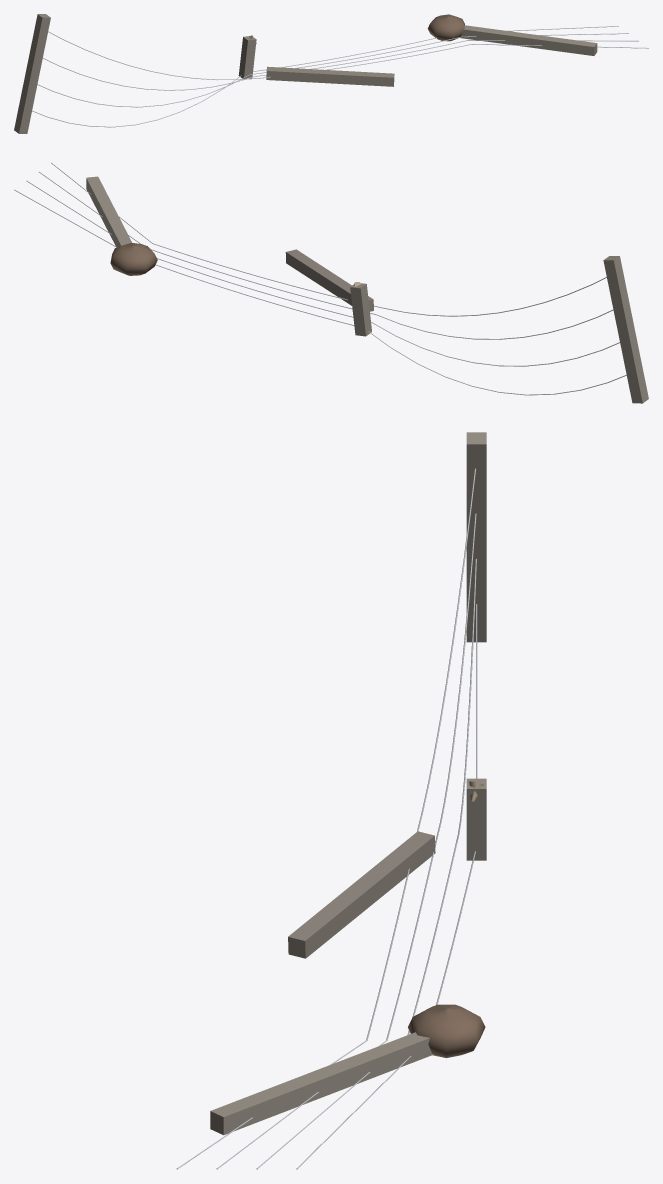
Rendered from cabin_fence_broken_a.glb.
The picture shows the model from 3 angles, top to bottom: view 1: azimuth 30°, elevation 25°; view 2: azimuth 150°, elevation 25°; view 3: azimuth 270°, elevation 25°; orthographic projection. The views are drawn at different scales.
Visible parts, largest first — view 1: body; view 2: body; view 3: body.
Boxes of the visible parts, x1=… form: body: x1=14, y1=14, x2=648, y2=133; body: x1=14, y1=162, x2=648, y2=403; body: x1=176, y1=432, x2=486, y2=1169.
Size of what is drawn, in the model's own units: 6.45 by 1.47 by 1.55.
